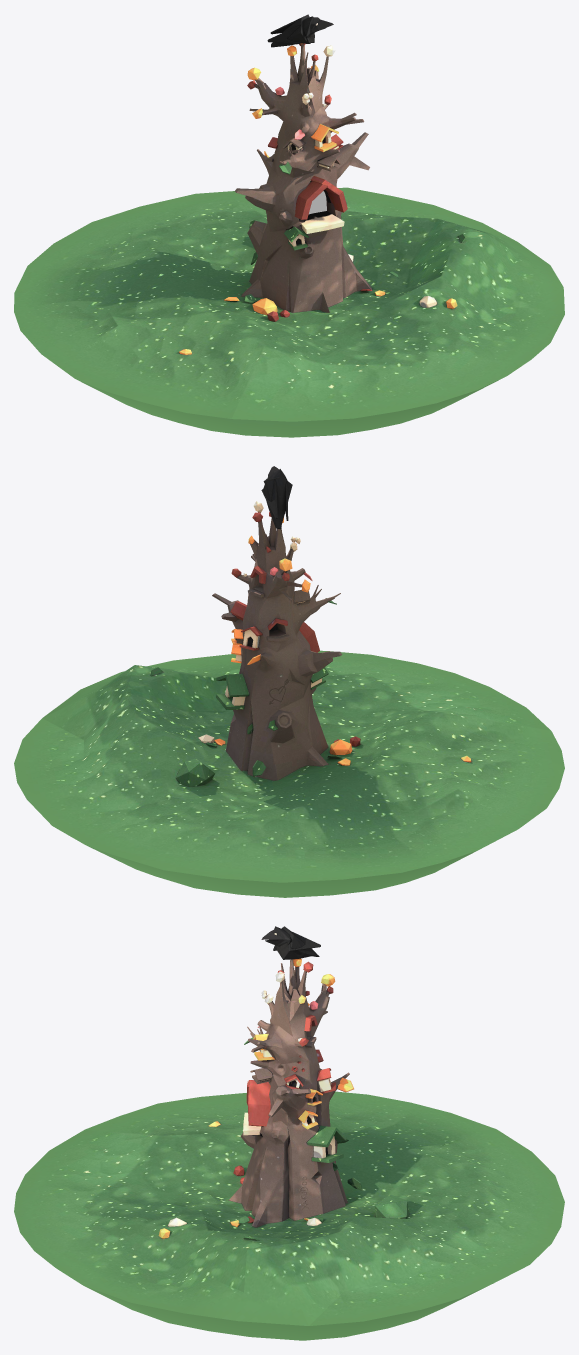
File: forest33.glb
The picture shows the model from 3 angles, top to bottom: view 1: azimuth 30°, elevation 25°; view 2: azimuth 150°, elevation 25°; view 3: azimuth 270°, elevation 25°; orthographic projection.
Visible parts, largest first — view 1: groundBottom, Tree, ground, crow; view 2: groundBottom, Tree, ground, crow; view 3: groundBottom, Tree, ground, crow.
Boxes of the visible parts, box(x1,y1,x2,y2) form: groundBottom: box(14, 187, 564, 421); Tree: box(179, 43, 465, 354); ground: box(78, 377, 504, 437); crow: box(267, 14, 333, 47); groundBottom: box(14, 650, 564, 882); Tree: box(150, 501, 471, 786); ground: box(88, 846, 477, 897); crow: box(261, 466, 292, 529); groundBottom: box(14, 1091, 564, 1325); Tree: box(158, 958, 409, 1240); ground: box(84, 1285, 489, 1340); crow: box(261, 926, 320, 959).
Size of what is drawn, in the model's own units: 48.9 by 35 by 48.97.
2 materials, 2 textured.
